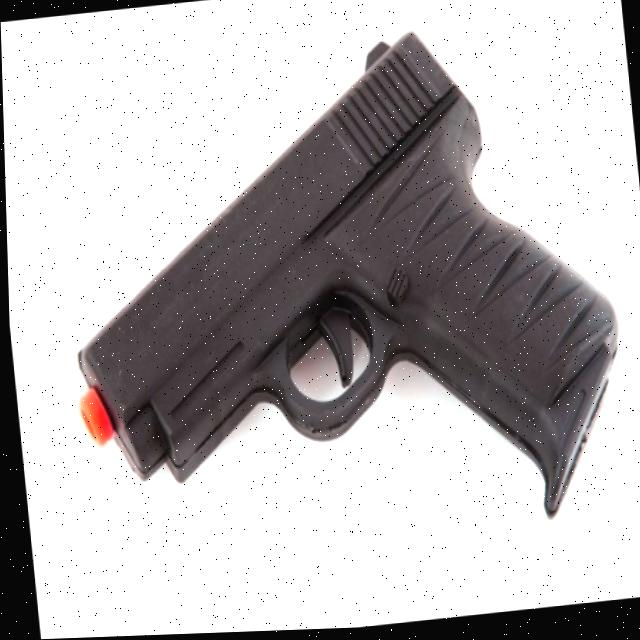pistol: (42, 11, 631, 569)
